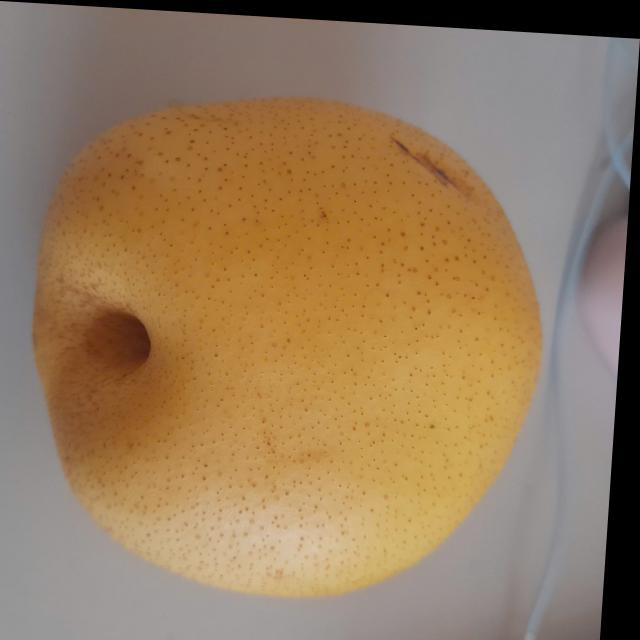Le: (20, 77, 564, 605)
